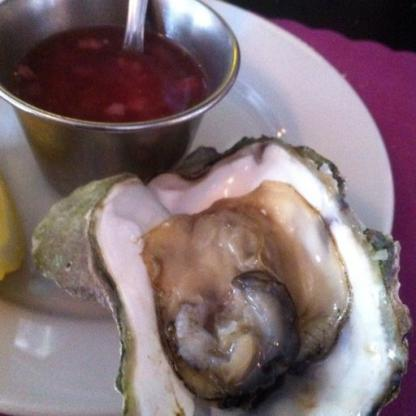oyster: (95, 138, 415, 415)
